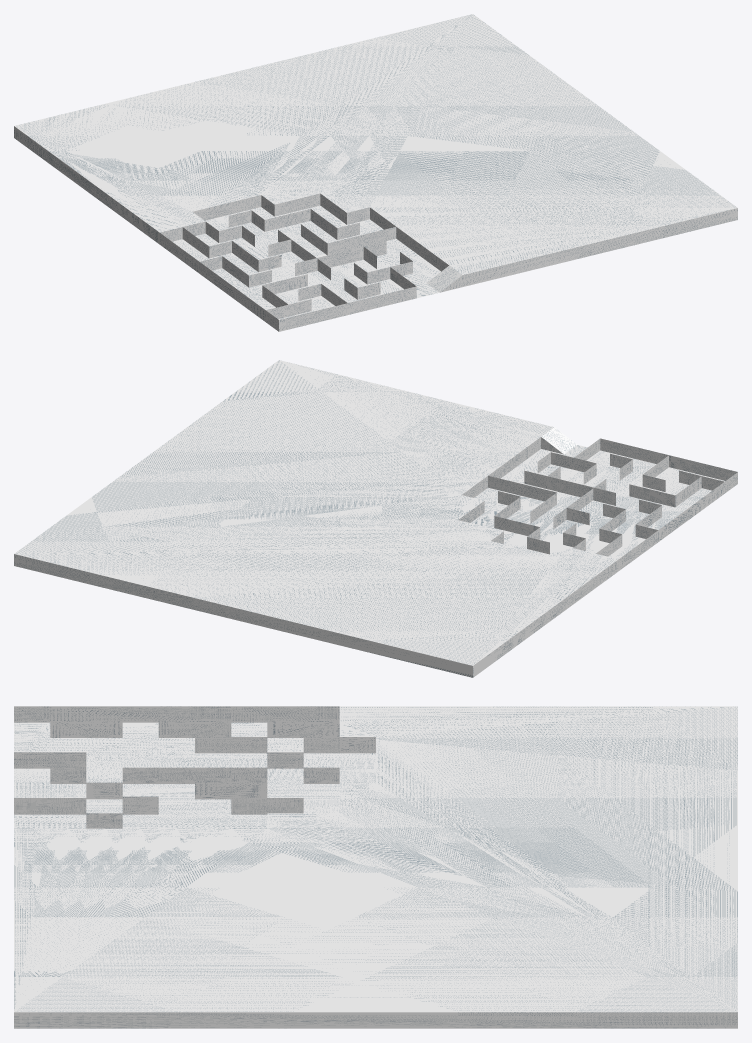
The model's file is TestSquare.dae.
The picture shows the model from 3 angles, top to bottom: view 1: azimuth 30°, elevation 25°; view 2: azimuth 150°, elevation 25°; view 3: azimuth 270°, elevation 25°; orthographic projection. The views are drawn at different scales.
Parts seen in each view (by area): view 1: SketchUp (×3); view 2: SketchUp (×3); view 3: SketchUp (×4).
Boxes of the visible parts, x1=… form: SketchUp (×3): x1=14, y1=14, x2=737, y2=331; SketchUp (×3): x1=14, y1=360, x2=737, y2=677; SketchUp (×4): x1=14, y1=706, x2=737, y2=1028.
Bounding box in the file's own units: 394 × 394 × 10.63.
